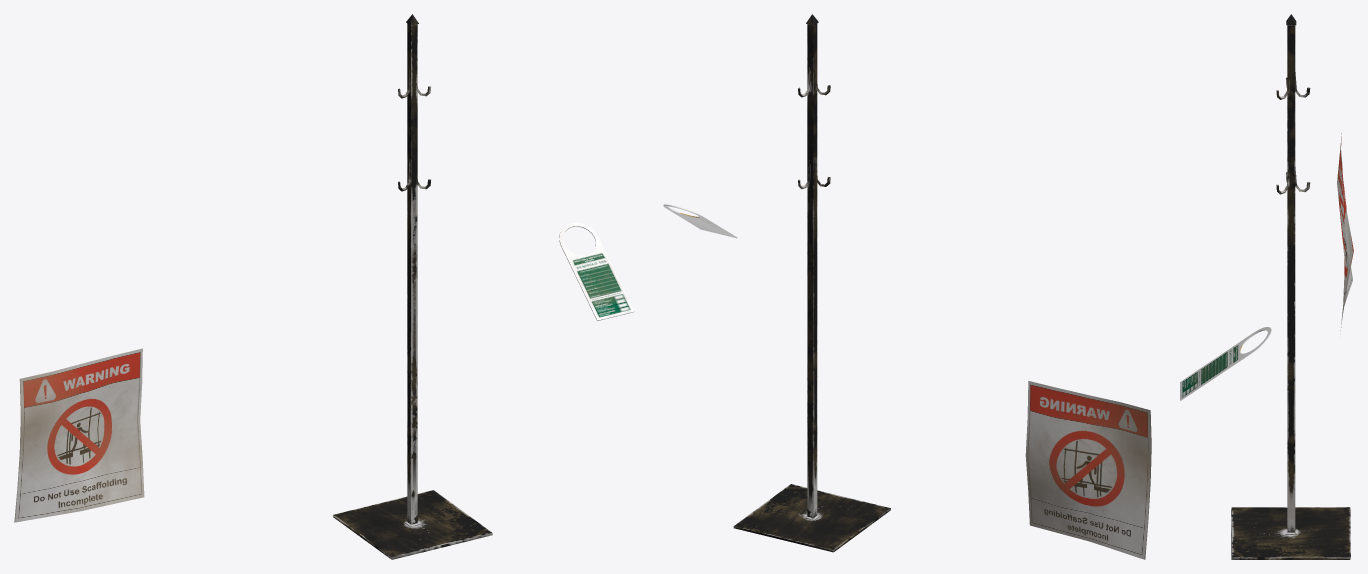
File: Scaffold Tag, Stand_01.fbx
The picture shows the model from 3 angles, left to right: view 1: azimuth 30°, elevation 25°; view 2: azimuth 150°, elevation 25°; view 3: azimuth 270°, elevation 25°; orthographic projection. The views are drawn at different scales.
Parts seen in each view (by area): view 1: DO NOT USE SCAFFOLD TAG, PPE Stand, Scaffold Tag; view 2: DO NOT USE SCAFFOLD TAG, PPE Stand, Scaffold Tag; view 3: PPE Stand, Scaffold Tag, DO NOT USE SCAFFOLD TAG.
Boxes of the visible parts, <box> form: DO NOT USE SCAFFOLD TAG: <box>14,348,144,522</box>; PPE Stand: <box>332,14,492,559</box>; Scaffold Tag: <box>559,222,634,320</box>; DO NOT USE SCAFFOLD TAG: <box>1025,381,1151,559</box>; PPE Stand: <box>733,14,890,552</box>; Scaffold Tag: <box>663,204,737,238</box>; PPE Stand: <box>1231,14,1350,559</box>; Scaffold Tag: <box>1180,327,1271,400</box>; DO NOT USE SCAFFOLD TAG: <box>1337,133,1353,330</box>.
Size of the model in its own units: 179 by 163 by 49.47.
Materials: 1 (1 with a texture image).
